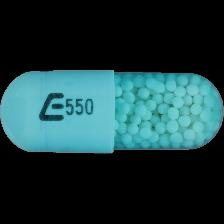0185-0550: (0, 0, 224, 224)
